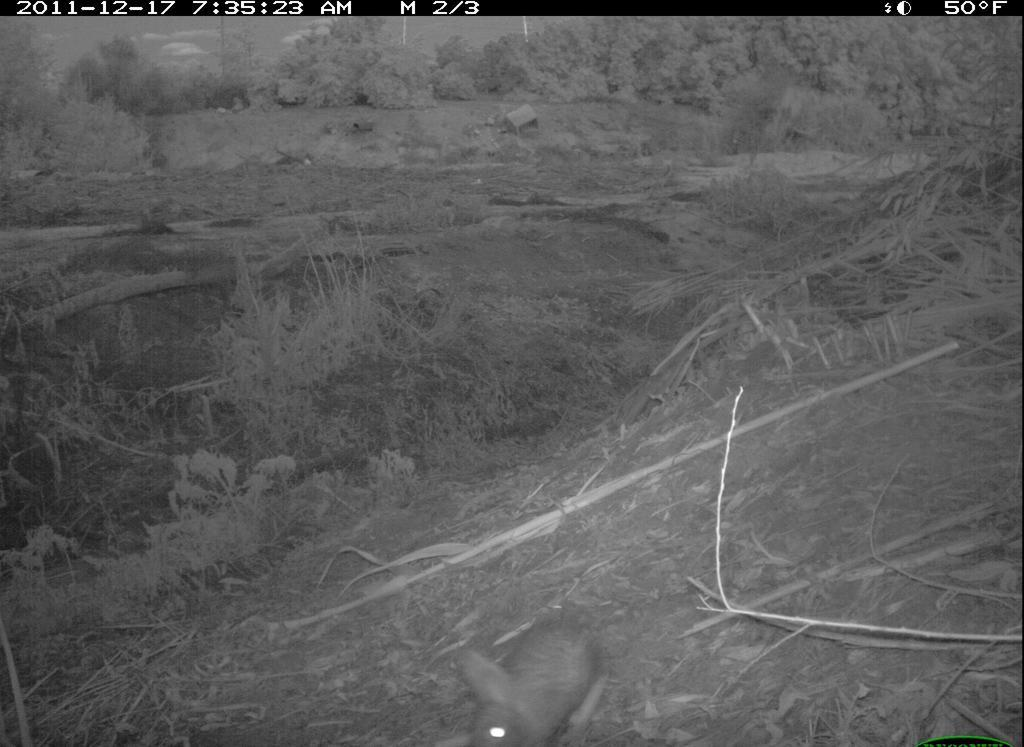rabbit: (433, 603, 624, 747)
